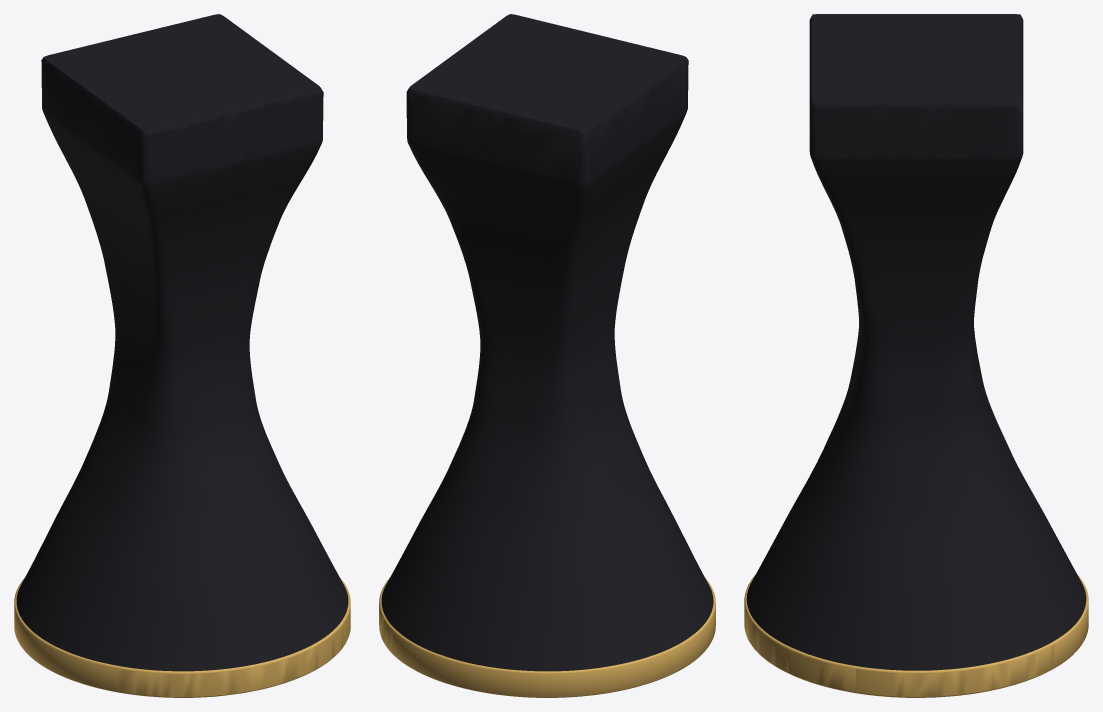
The model's file is rook-black-hd.glb.
The picture shows the model from 3 angles, left to right: view 1: azimuth 30°, elevation 25°; view 2: azimuth 150°, elevation 25°; view 3: azimuth 270°, elevation 25°; orthographic projection. The views are drawn at different scales.
Parts seen in each view (by area): view 1: 02_vez_telo_0, 02_vez_podstavec; view 2: 02_vez_telo_0, 02_vez_podstavec; view 3: 02_vez_telo_0, 02_vez_podstavec.
Boxes of the visible parts, x1,y1,x2,y2 form: 02_vez_telo_0: (16,14,348,671); 02_vez_podstavec: (14,578,350,697); 02_vez_telo_0: (381,14,713,671); 02_vez_podstavec: (379,578,715,697); 02_vez_telo_0: (746,14,1086,670); 02_vez_podstavec: (744,575,1088,697).
Bounding box in the file's own units: 0.7258 × 1.32 × 0.7258.
